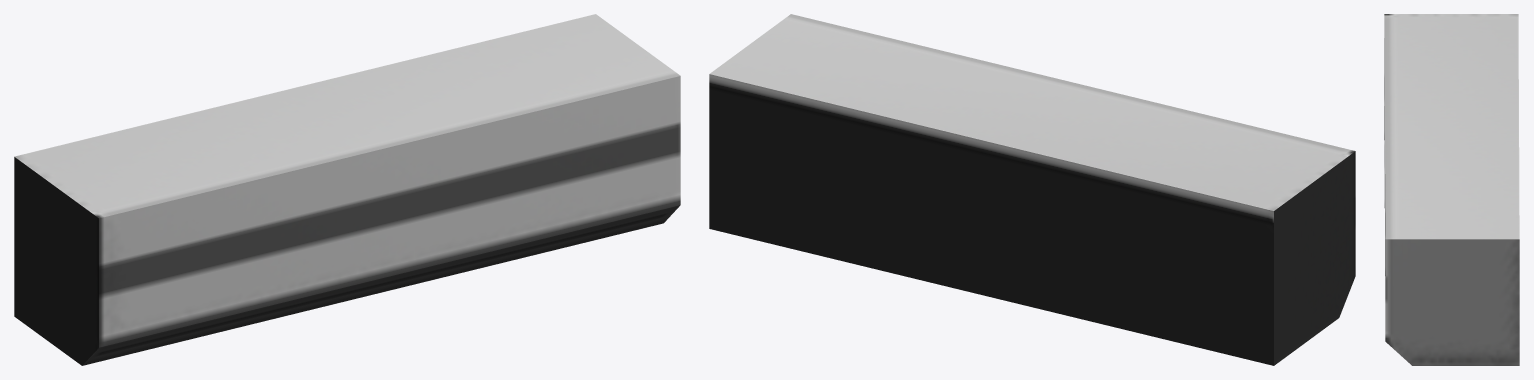
File: Tx_prop_air conditioner_art.fbx
3 renders of one model, left to right at view 1: azimuth 30°, elevation 25°; view 2: azimuth 150°, elevation 25°; view 3: azimuth 270°, elevation 25°, orthographic. The views are drawn at different scales.
Visible parts, largest first — view 1: Tx_prop_air_conditioner_art; view 2: Tx_prop_air_conditioner_art; view 3: Tx_prop_air_conditioner_art.
Part boxes in pixels (x1=…): Tx_prop_air_conditioner_art: x1=14, y1=14, x2=680, y2=365; Tx_prop_air_conditioner_art: x1=709, y1=14, x2=1355, y2=365; Tx_prop_air_conditioner_art: x1=1384, y1=14, x2=1519, y2=365.
Size of the model in its own units: 6.72 by 1.76 by 1.7.
